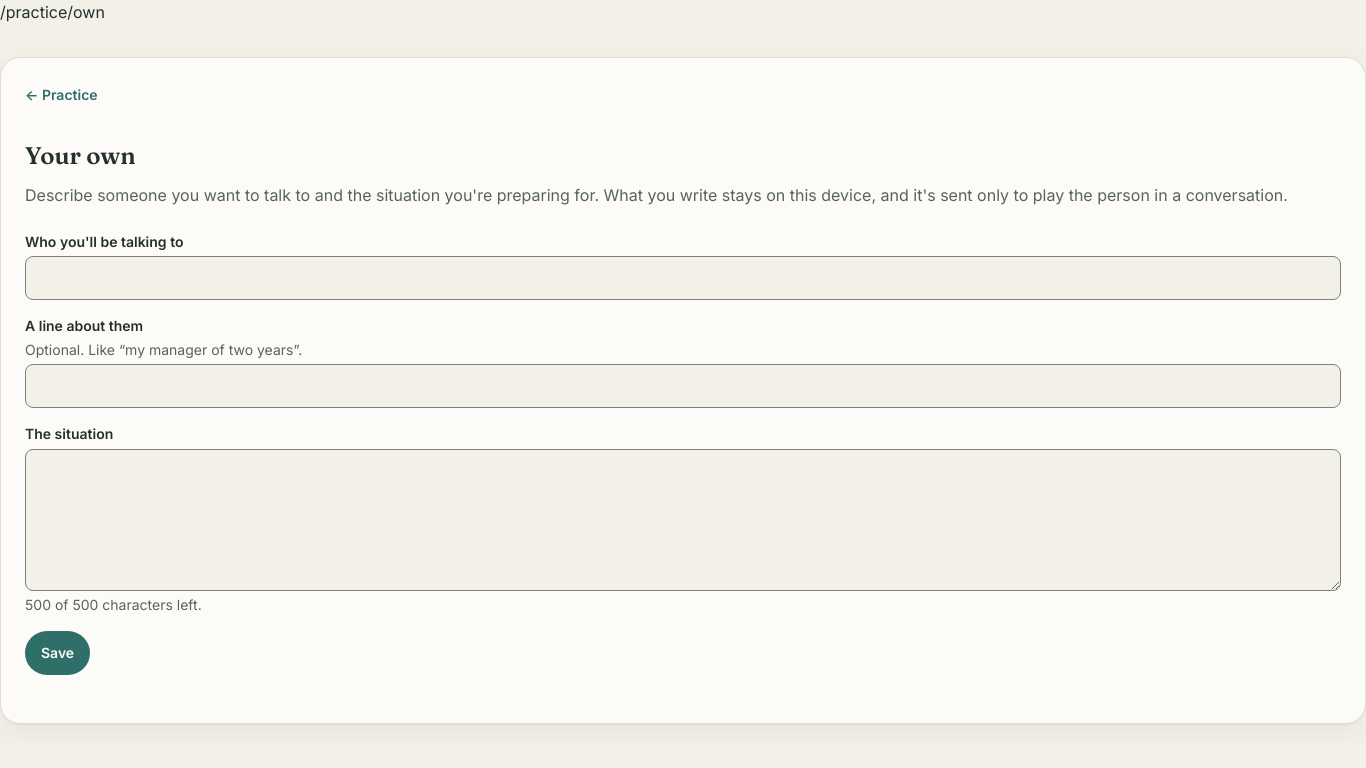
Scenario: OwnScenarioBriefScreen (issue #67) › with nothing saved yet › saves what was written, then shows it as the chosen situation, ready to start
Type "Dana" into the field labelled "Who you'll be talking to" at [683, 278], box [25, 256, 1341, 300]
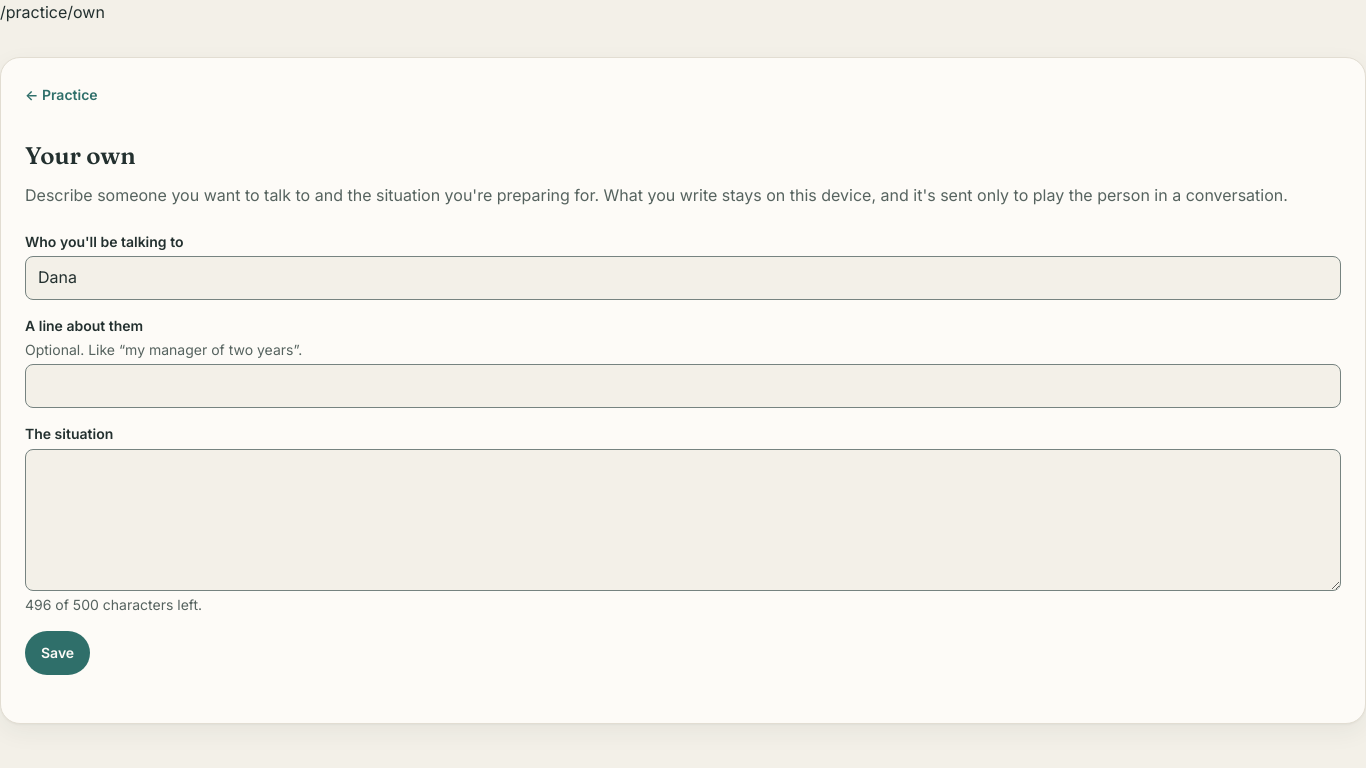
Type "my manager of two years" into the field labelled "A line about them" at [683, 386], box [25, 364, 1341, 408]
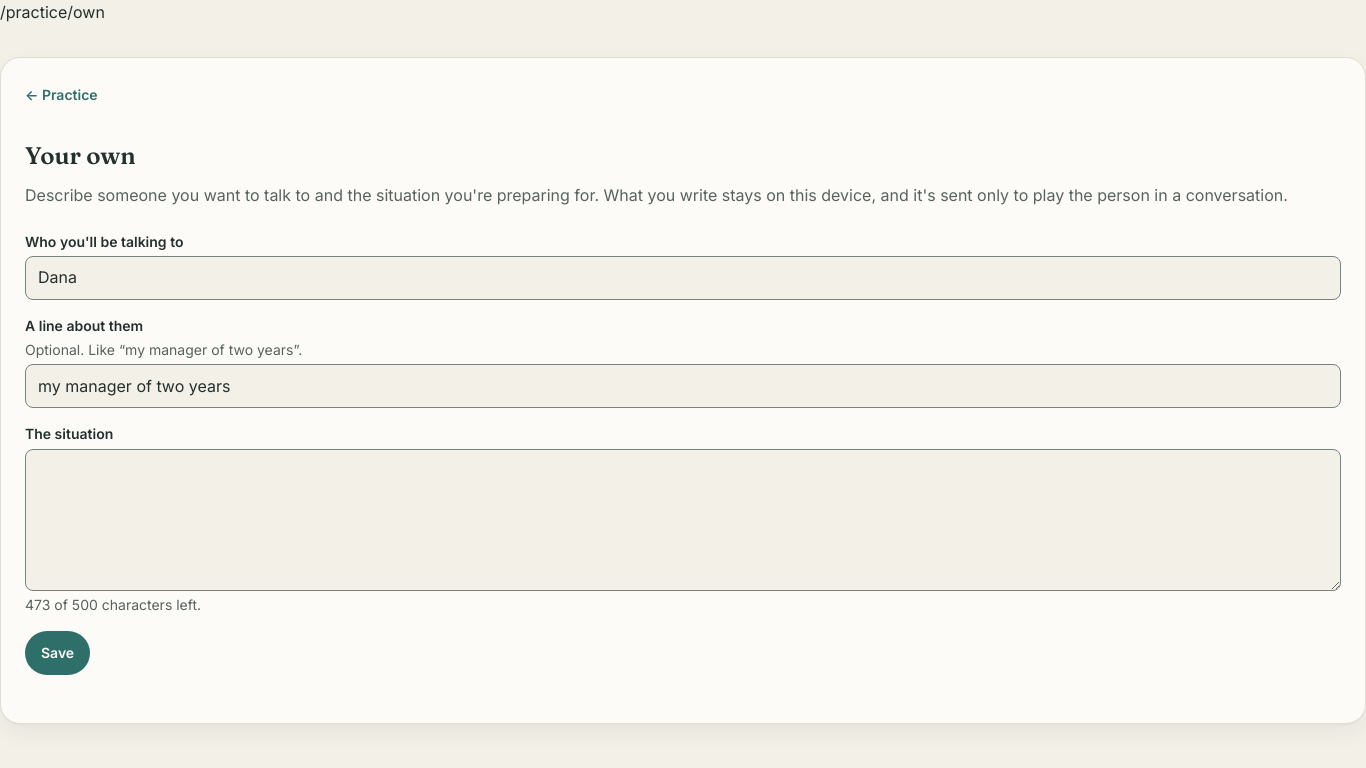
Type "I want to ask Dana for a raise." into the text box labelled "The situation" at [683, 520], box [25, 449, 1341, 591]
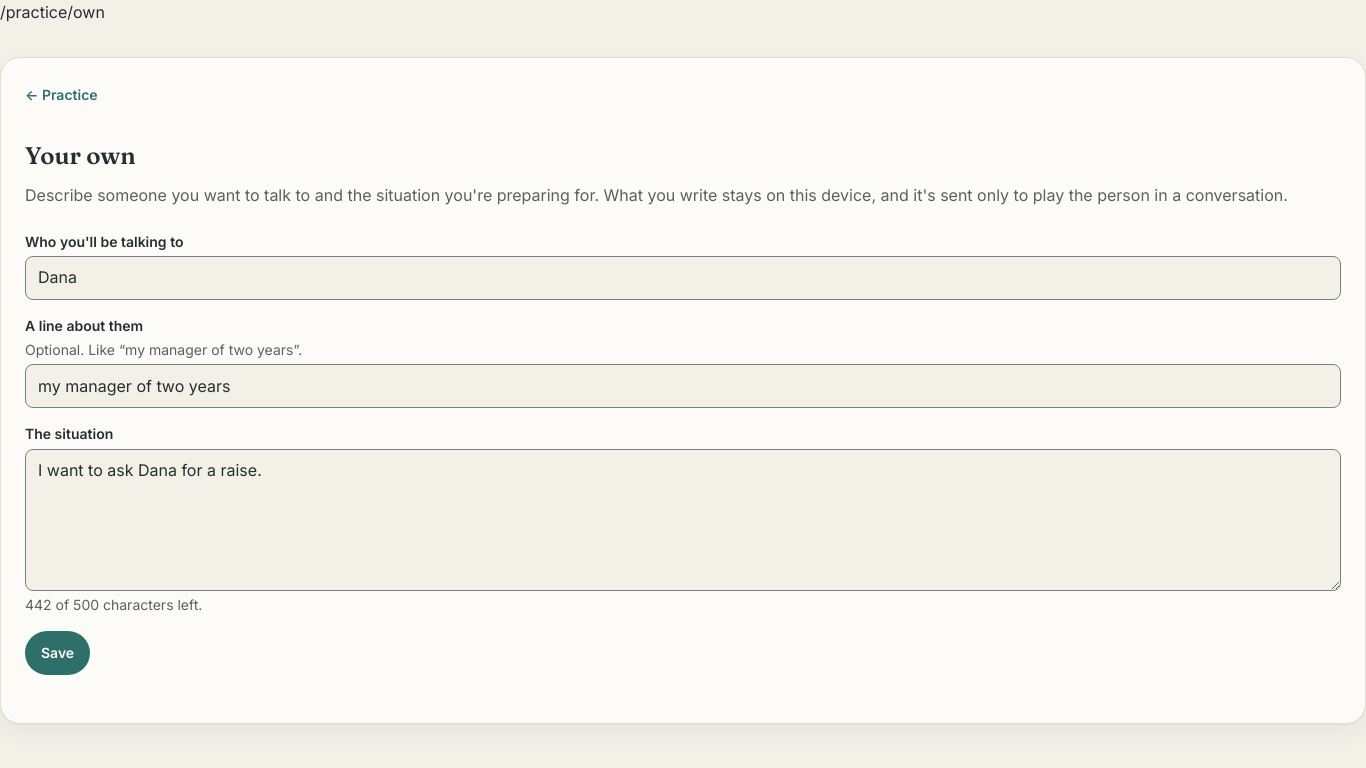
Click the button "Save" at [58, 653], box [25, 631, 90, 675]
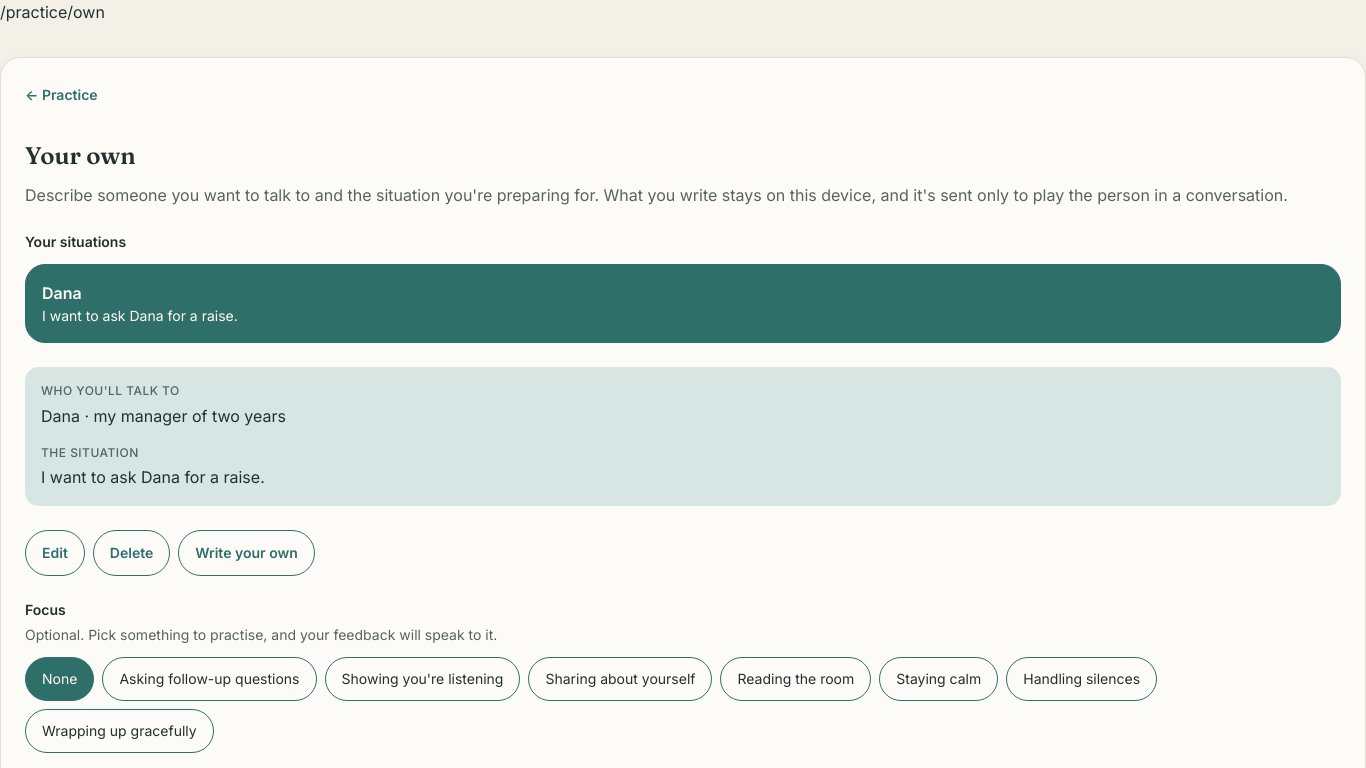
Expected: the radio button labelled "Dana I want to ask Dana for a raise." is checked, [25, 264, 1341, 343]
Expected: the text "I want to ask Dana for a raise." below "· my manager of two years" is shown, [41, 467, 265, 487]
Expected: the text "Dana · my manager of two years" is shown, [41, 406, 286, 426]
